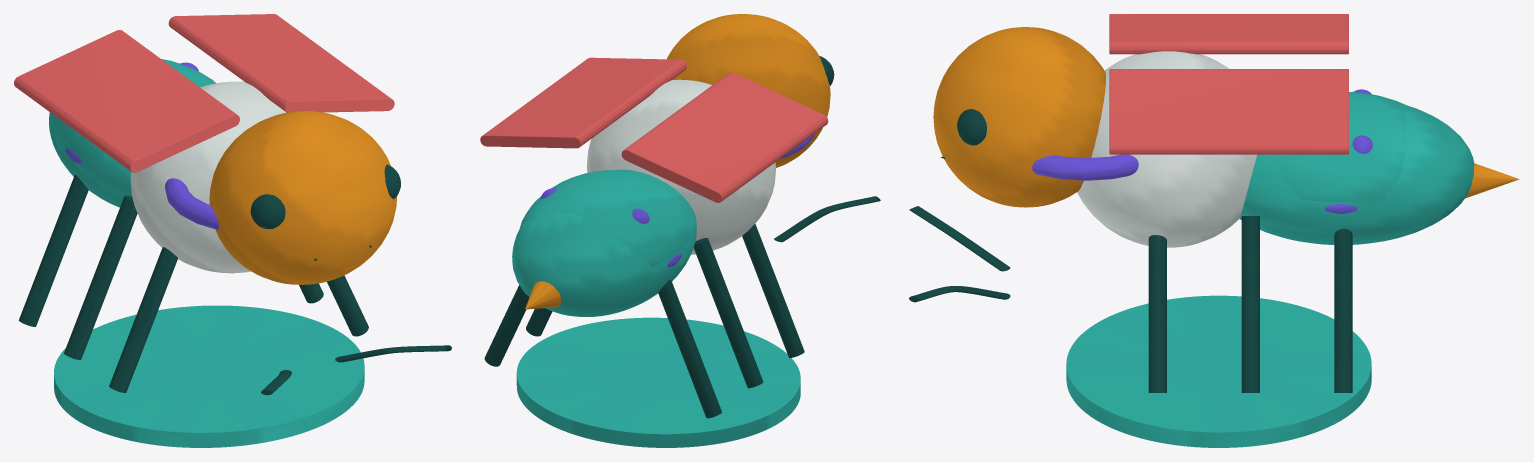
The model's file is 0026_昆虫图鉴_蟋蟀.glb.
3 views of the same model, side by side, from view 1: azimuth 30°, elevation 25°; view 2: azimuth 150°, elevation 25°; view 3: azimuth 270°, elevation 25° (orthographic). The views are drawn at different scales.
Parts seen in each view (by area): view 1: card_0026; view 2: card_0026; view 3: card_0026.
Part boxes in pixels (<box>): card_0026: <box>14,14,451,447</box>; card_0026: <box>480,14,880,447</box>; card_0026: <box>909,14,1519,447</box>.
Bounding box in the file's own units: 0.8563 × 1 × 1.62.
